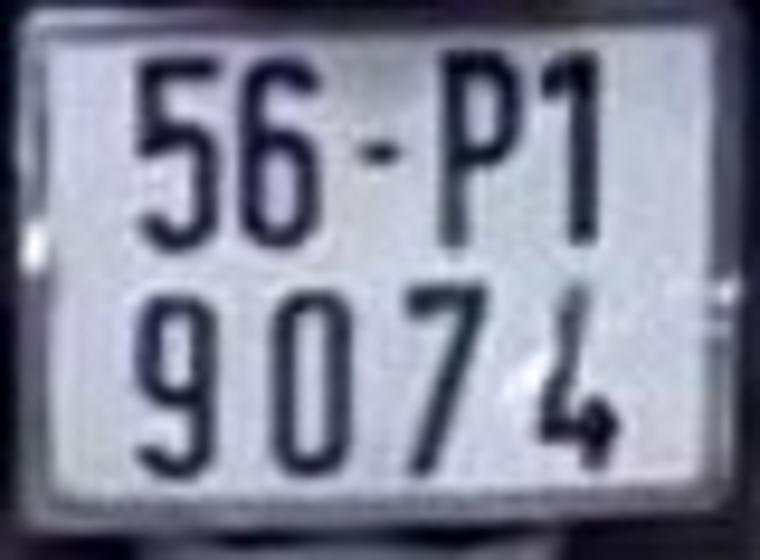-: (353, 147, 393, 162)
0: (269, 289, 353, 478)
1: (543, 47, 601, 250)
4: (542, 279, 617, 473)
5: (131, 57, 217, 247)
6: (238, 58, 320, 246)
7: (399, 286, 485, 476)
9: (136, 291, 218, 483)
P: (437, 44, 517, 248)
